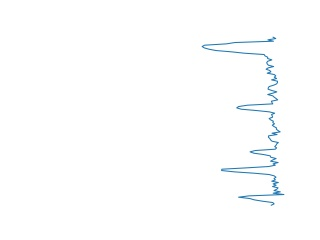distalBar: (200, 34, 280, 91)
interdistributaryEstuary: (235, 92, 281, 144)
underwaterNaturalLevee: (217, 144, 285, 206)
